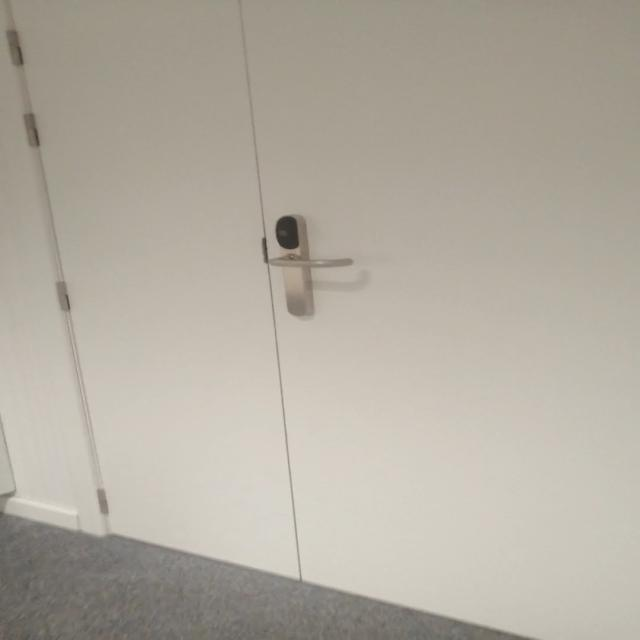door_handle: (259, 252, 358, 272)
